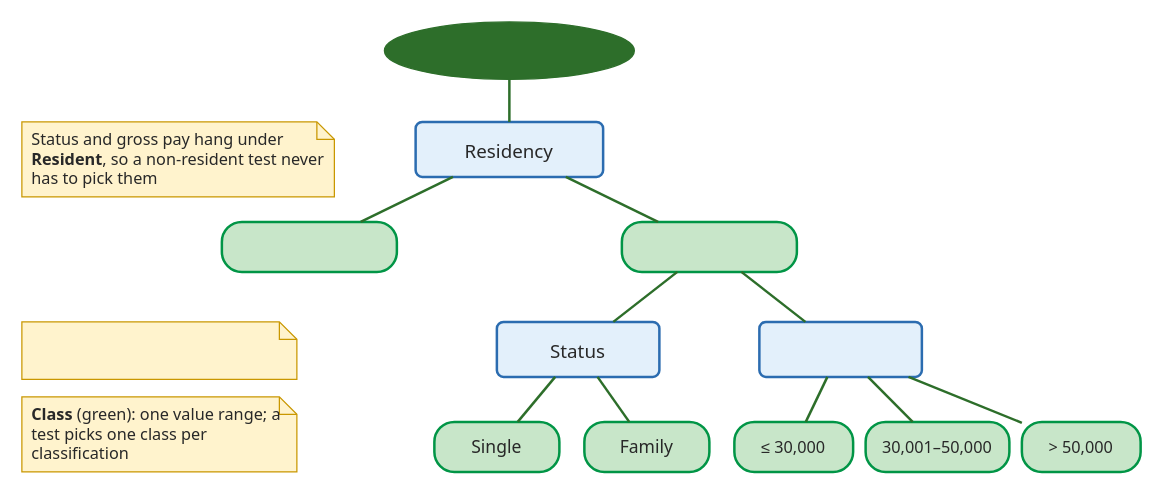
Some shapes in this 1164 by 495 pixel diagram are drawn without their labels. Here are the shapes that lost their labels. From the top down, the centre of each, then its label:
At point 508,50: "City tax calculator".
At point 309,246: "Non-resident".
At point 709,246: "Resident".
At point 159,350: "Classification (blue): an aspect, split into classes".
At point 840,349: "Gross pay".
